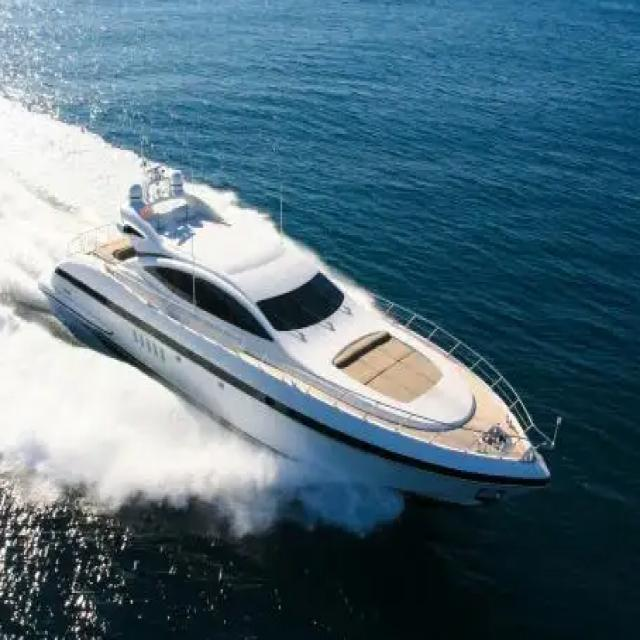houseboat: (45, 133, 547, 505)
